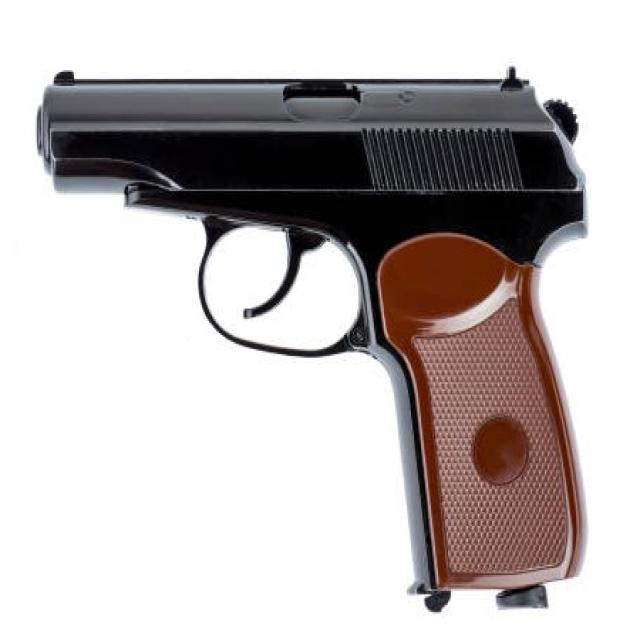pistol: (28, 58, 595, 620)
